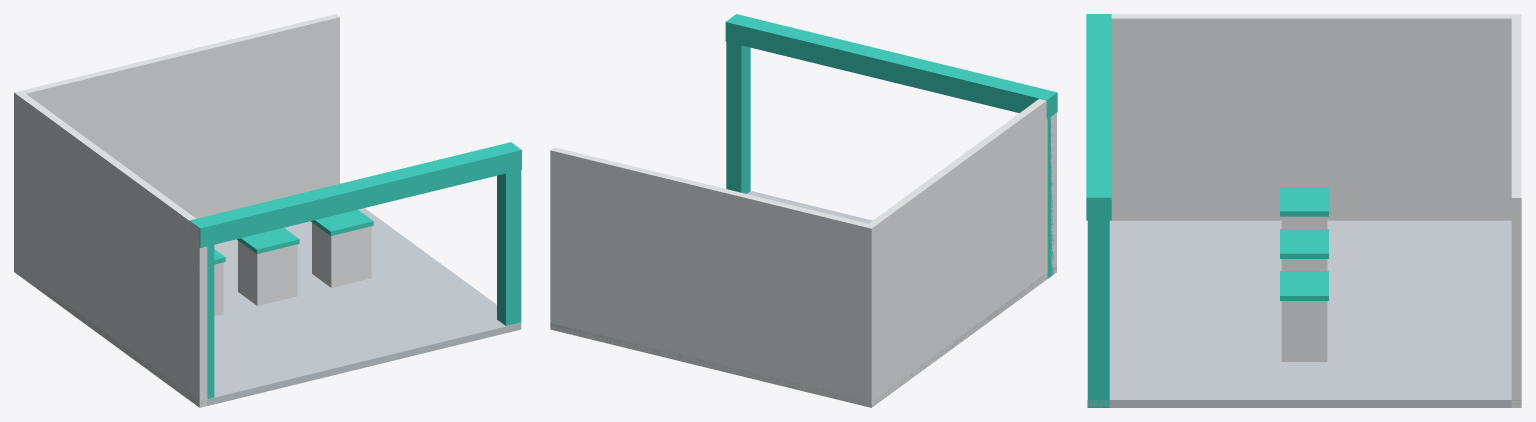
The picture shows the model from 3 angles, left to right: view 1: azimuth 30°, elevation 25°; view 2: azimuth 150°, elevation 25°; view 3: azimuth 270°, elevation 25°; orthographic projection. The views are drawn at different scales.
Parts seen in each view (by area): view 1: Exhibition Booth Concept; view 2: Exhibition Booth Concept; view 3: Exhibition Booth Concept.
Part boxes in pixels (x1,y1,x2,y2): Exhibition Booth Concept: [14, 14, 521, 407]; Exhibition Booth Concept: [550, 14, 1057, 407]; Exhibition Booth Concept: [1086, 14, 1521, 407].
Bounding box in the file's own units: 6 × 3.2 × 6.02.
